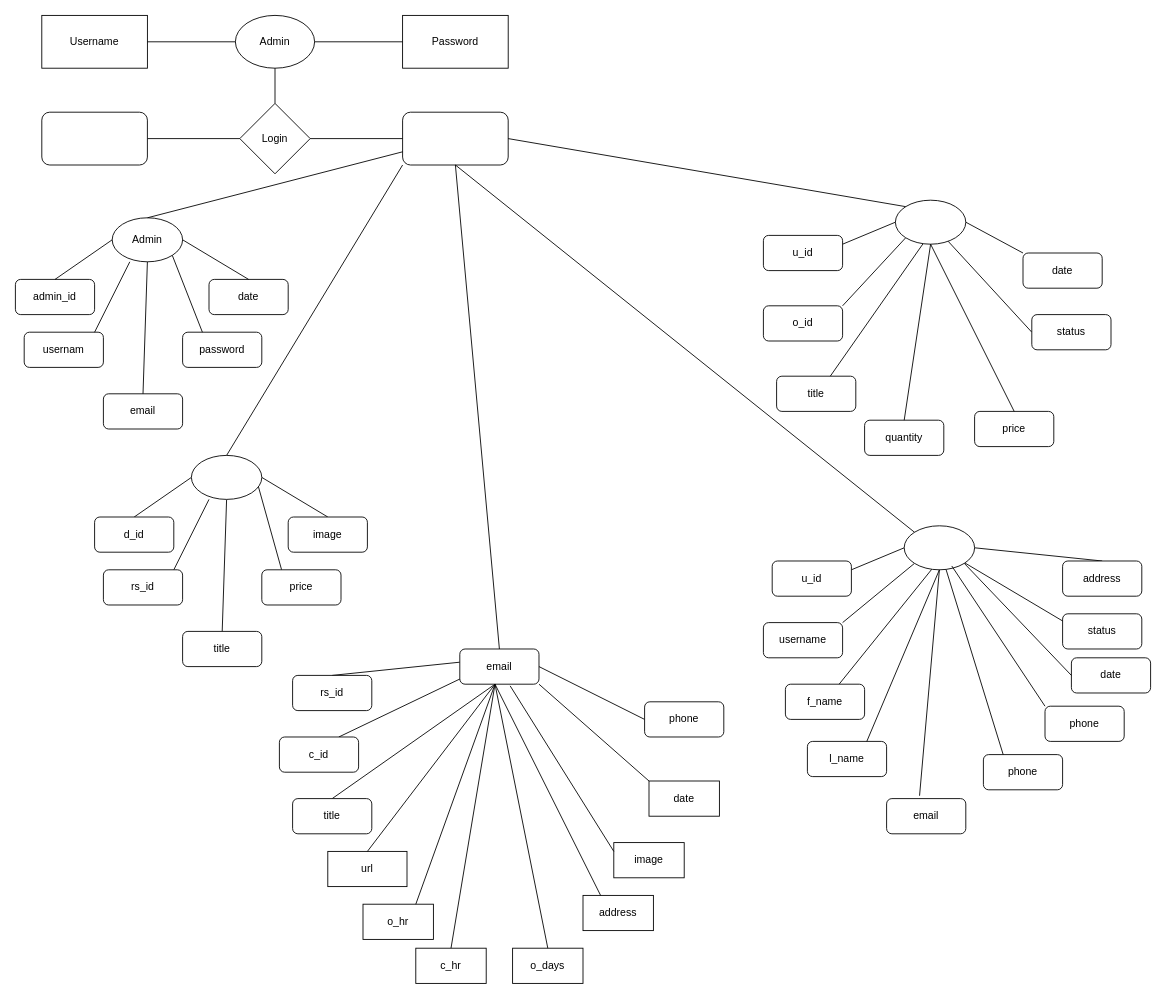
Image size: 1166x999. Some labels were removed from this diagram. The shapes that lost their labels are listed below. From the top down, each one's centre as x and y in pixels, then its label:
pixel 94 138: Log Out
pixel 455 138: Home Page
pixel 930 221: users_orders
pixel 226 477: dishes
pixel 939 547: users
